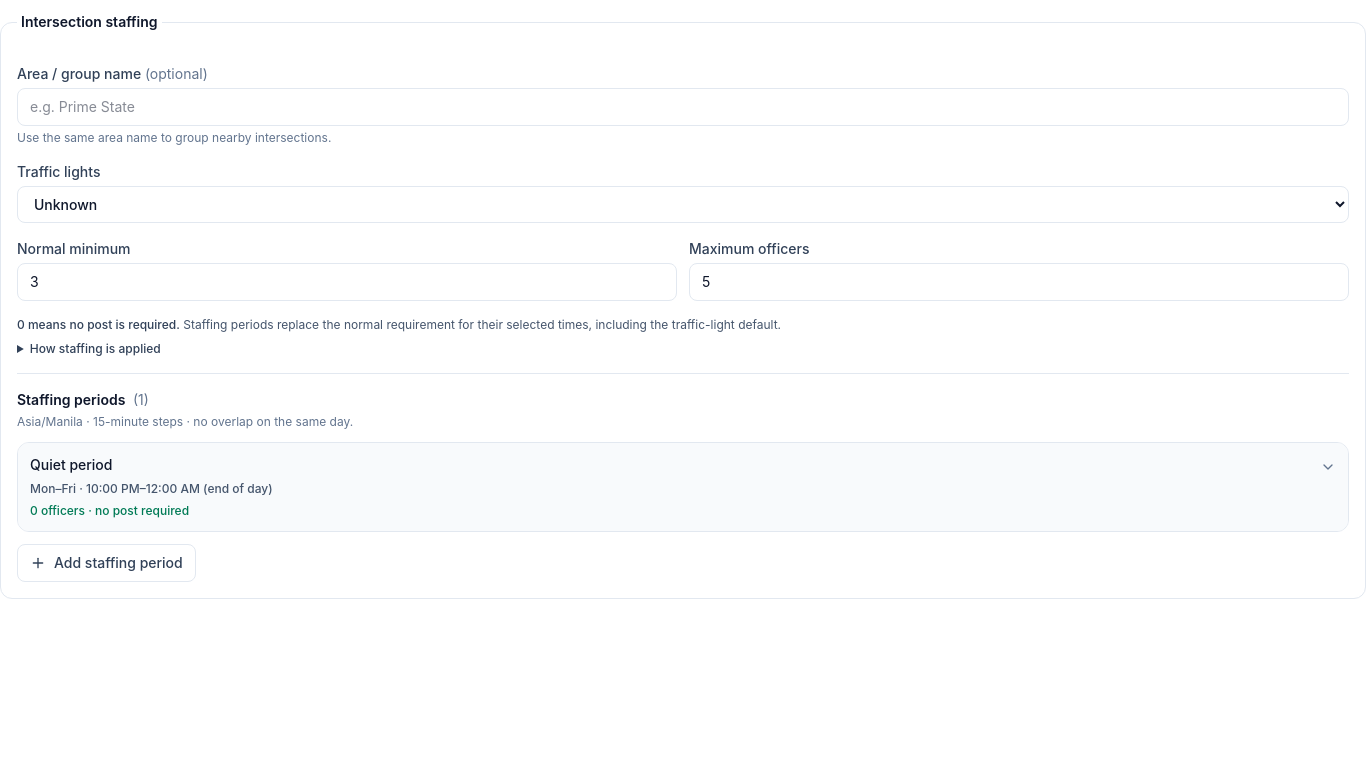
shows the traffic-light requirement without overwriting the saved normal minimum or periods
This screenshot has width=1366, height=780.
Select "Working" in the dropdown labelled "Traffic lights". click: (683, 204)
box: [17,186,1349,223]
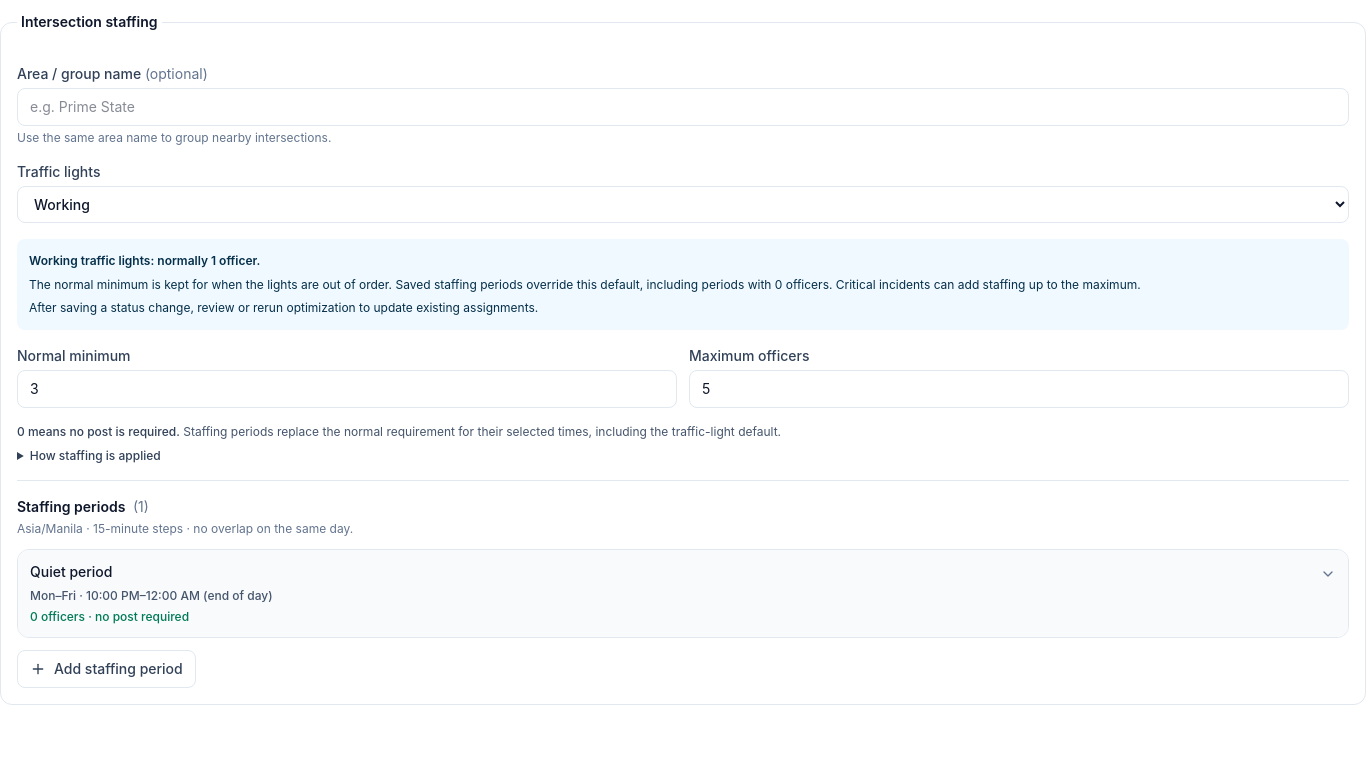
Expected: the number field labelled "Normal minimum" holds "3", [17,370,677,408]
Now the text "Working traffic lights: normally 1 officer." is shown, box [29,253,260,268]
Select "Out of order" in the dropdown labelled "Traffic lights". click: (683, 204)
box: [17,186,1349,223]
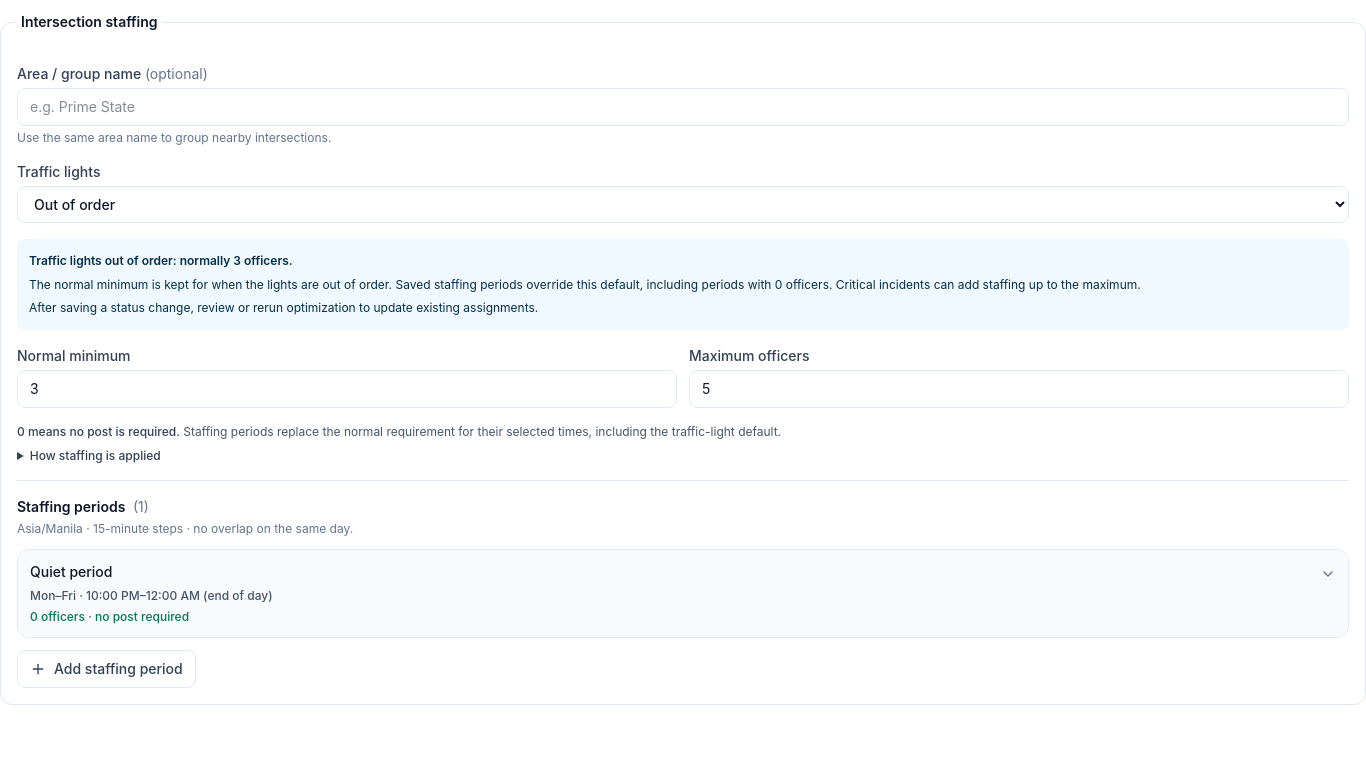
Expected: the number field labelled "Normal minimum" holds "3", [17,370,677,408]
Now the text "Traffic lights out of order: normally 3 officers." is shown, box [29,253,293,268]
